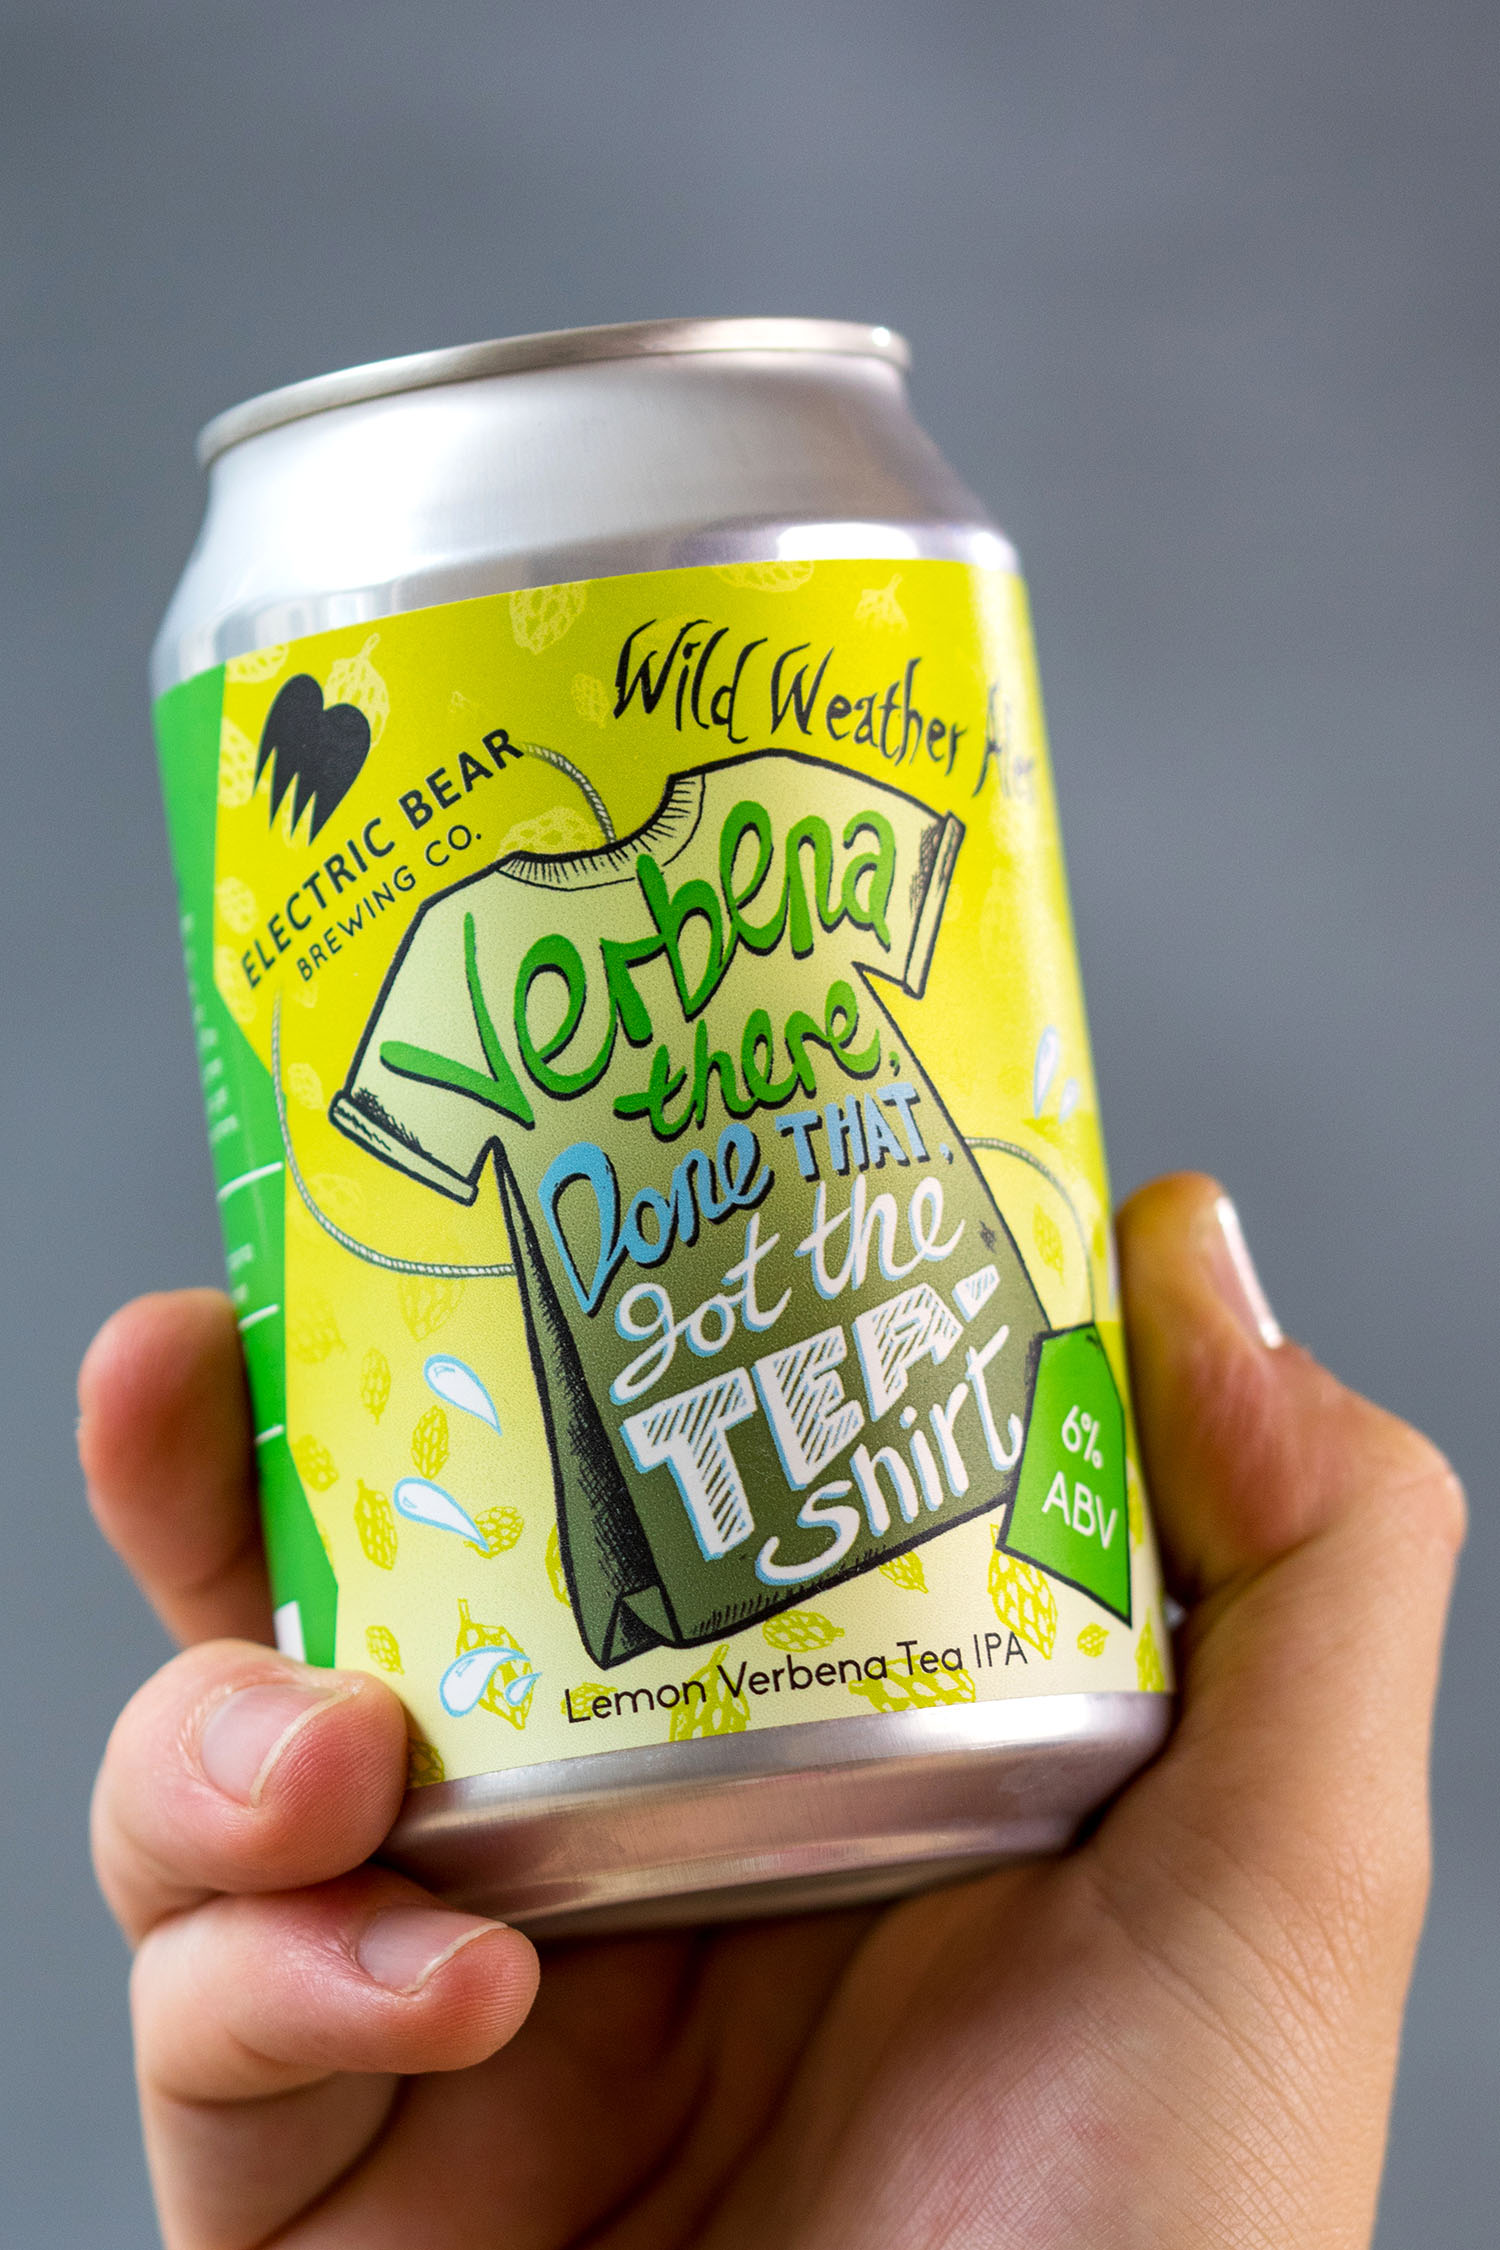beer can: (172, 300, 1200, 1942)
